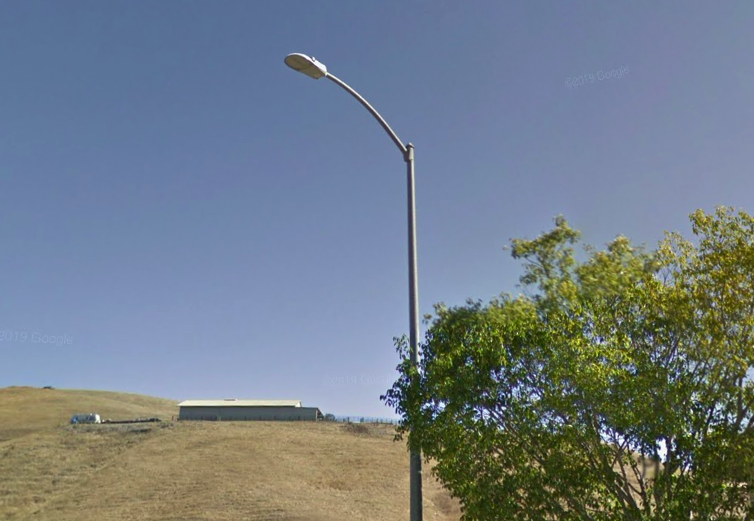pole: (271, 47, 429, 300)
